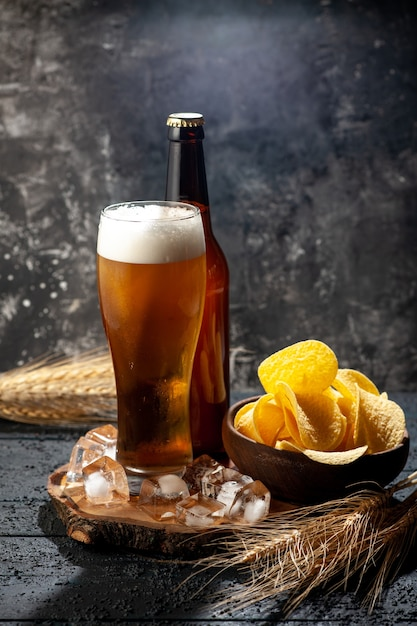alcohol: (96, 198, 209, 475), (154, 110, 234, 457)
